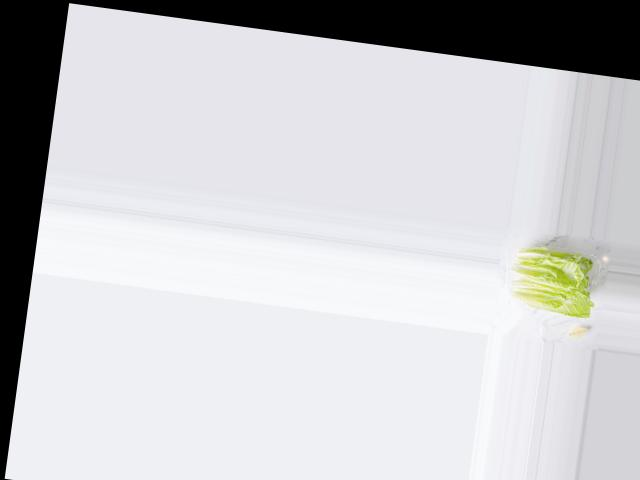lettuce: (505, 240, 602, 322)
